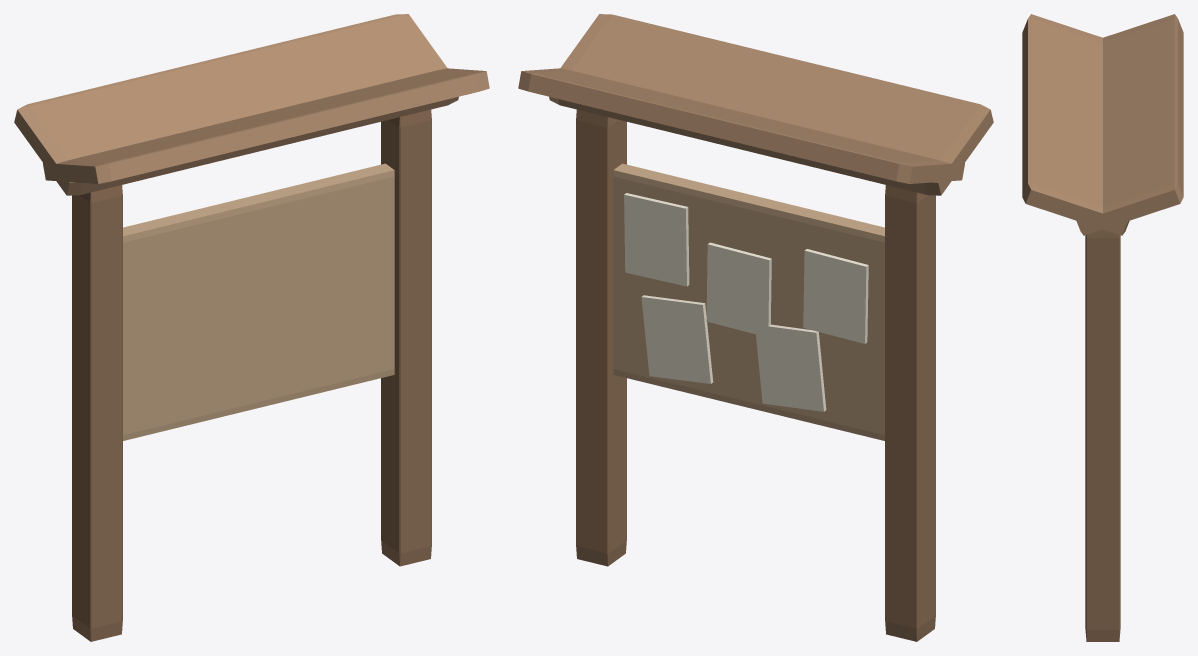
The model's file is notice_board.glb.
3 views of the same model, side by side, from view 1: azimuth 30°, elevation 25°; view 2: azimuth 150°, elevation 25°; view 3: azimuth 270°, elevation 25° (orthographic). The views are drawn at different scales.
Parts seen in each view (by area): view 1: notice_board; view 2: notice_board; view 3: notice_board.
Part boxes in pixels (x1,y1,x2,y2): notice_board: [14, 14, 489, 641]; notice_board: [518, 14, 993, 641]; notice_board: [1022, 14, 1183, 641].
Size of the model in its own units: 1.9 by 2.34 by 0.7355.
